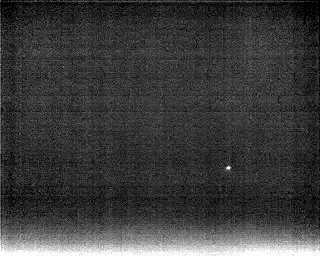BIRD: (223, 163, 233, 174)
